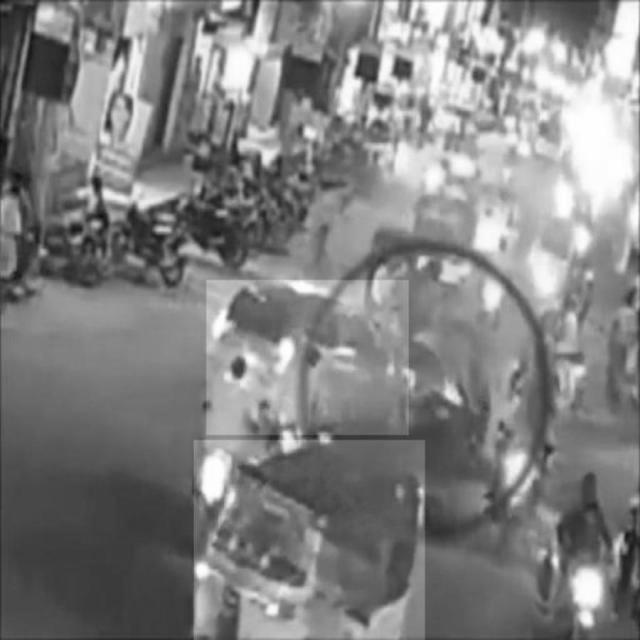vehicle: (194, 440, 425, 640), (206, 280, 408, 434)
